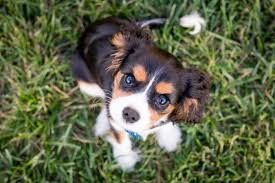dog: (78, 24, 205, 154)
